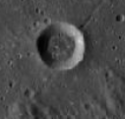crater: (20, 15, 94, 83), (106, 8, 125, 32)
